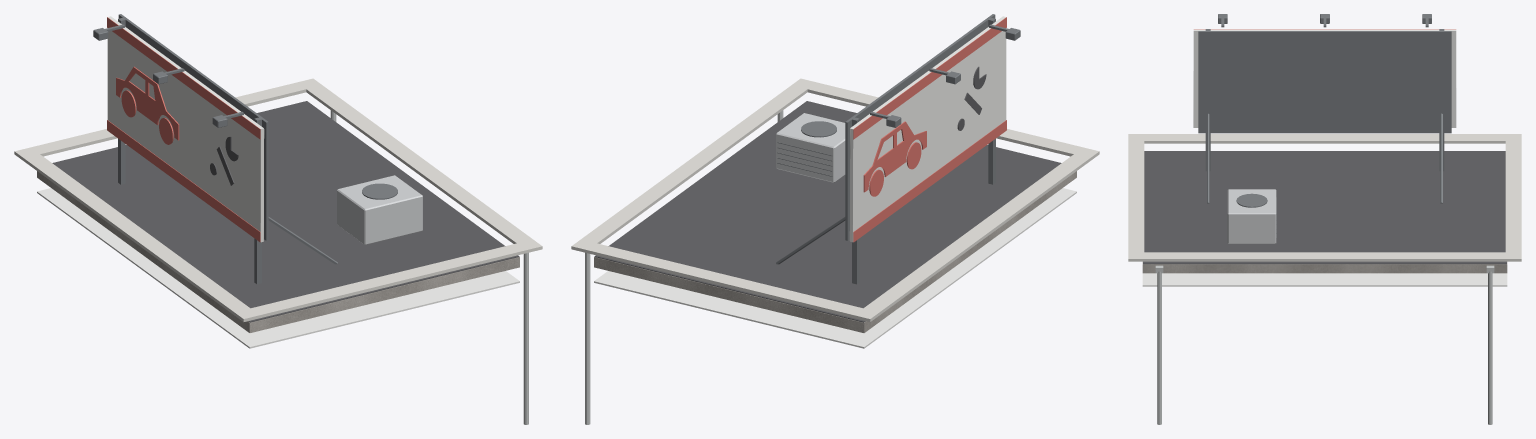
Rendered from o_roof.glb.
The picture shows the model from 3 angles, left to right: view 1: azimuth 30°, elevation 25°; view 2: azimuth 150°, elevation 25°; view 3: azimuth 270°, elevation 25°; orthographic projection. The views are drawn at different scales.
Visible parts, largest first — view 1: o_roof_dark, o_roof_coping, o_roof_paint_w, o_roof_ceil, o_roof_paint_r, o_roof_concrete, o_roof_steel_d, o_roof_metal, o_roof_galv; view 2: o_roof_dark, o_roof_coping, o_roof_paint_w, o_roof_ceil, o_roof_paint_r, o_roof_steel_d, o_roof_concrete, o_roof_metal, o_roof_galv; view 3: o_roof_dark, o_roof_steel_d, o_roof_coping, o_roof_ceil, o_roof_concrete, o_roof_metal, o_roof_paint_w, o_roof_galv.
Boxes of the visible parts, bbox=[...] form: o_roof_dark: bbox=[52, 101, 519, 322]; o_roof_coping: bbox=[14, 78, 542, 321]; o_roof_paint_w: bbox=[107, 16, 264, 242]; o_roof_ceil: bbox=[37, 188, 519, 348]; o_roof_paint_r: bbox=[107, 17, 260, 242]; o_roof_concrete: bbox=[37, 171, 519, 332]; o_roof_steel_d: bbox=[93, 14, 397, 284]; o_roof_metal: bbox=[337, 175, 422, 244]; o_roof_galv: bbox=[330, 110, 528, 424]; o_roof_dark: bbox=[594, 66, 1061, 322]; o_roof_coping: bbox=[571, 78, 1099, 321]; o_roof_paint_w: bbox=[849, 16, 1006, 242]; o_roof_ceil: bbox=[594, 188, 1076, 348]; o_roof_paint_r: bbox=[853, 17, 1006, 242]; o_roof_steel_d: bbox=[776, 14, 1020, 284]; o_roof_concrete: bbox=[594, 171, 1076, 332]; o_roof_metal: bbox=[776, 113, 845, 182]; o_roof_galv: bbox=[585, 110, 783, 424]; o_roof_dark: bbox=[1143, 151, 1506, 264]; o_roof_steel_d: bbox=[1198, 14, 1451, 237]; o_roof_coping: bbox=[1128, 134, 1521, 261]; o_roof_ceil: bbox=[1142, 273, 1507, 286]; o_roof_concrete: bbox=[1142, 262, 1507, 273]; o_roof_metal: bbox=[1227, 189, 1276, 243]; o_roof_paint_w: bbox=[1193, 29, 1456, 127]; o_roof_galv: bbox=[1155, 265, 1494, 424].
Size of the model in its own units: 6.17 by 6.7 by 8.08.
11 materials, 1 textured.
